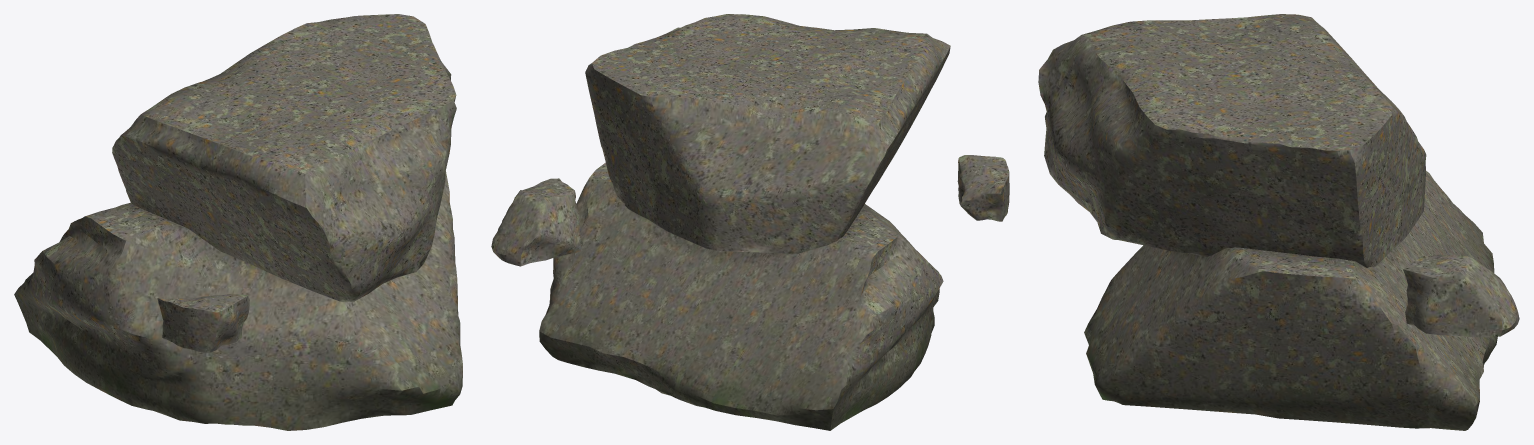
The model's file is foundation_corner.glb.
3 views of the same model, side by side, from view 1: azimuth 30°, elevation 25°; view 2: azimuth 150°, elevation 25°; view 3: azimuth 270°, elevation 25° (orthographic). The views are drawn at different scales.
Parts seen in each view (by area): view 1: foundation_corner; view 2: foundation_corner; view 3: foundation_corner.
Part boxes in pixels (bbox=[...]): foundation_corner: bbox=[14, 14, 462, 430]; foundation_corner: bbox=[491, 14, 1009, 430]; foundation_corner: bbox=[1038, 14, 1519, 430].
Bounding box in the file's own units: 0.7075 × 0.486 × 0.7302.
1 material, 1 textured.
